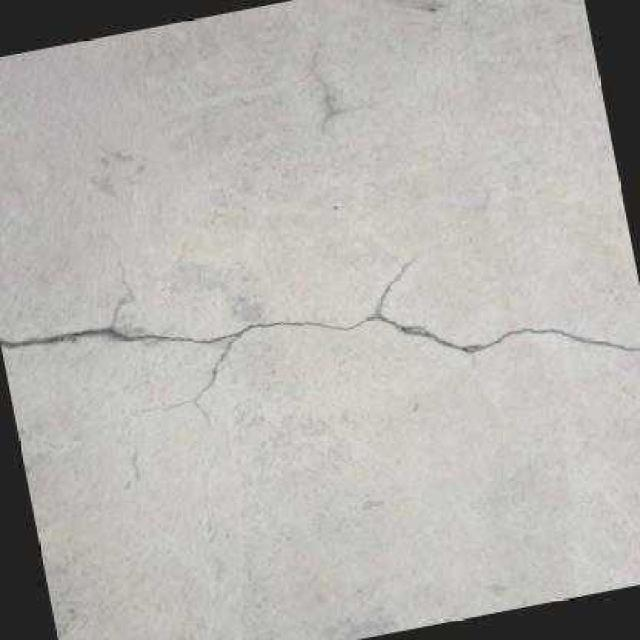D00: (0, 251, 640, 434)
